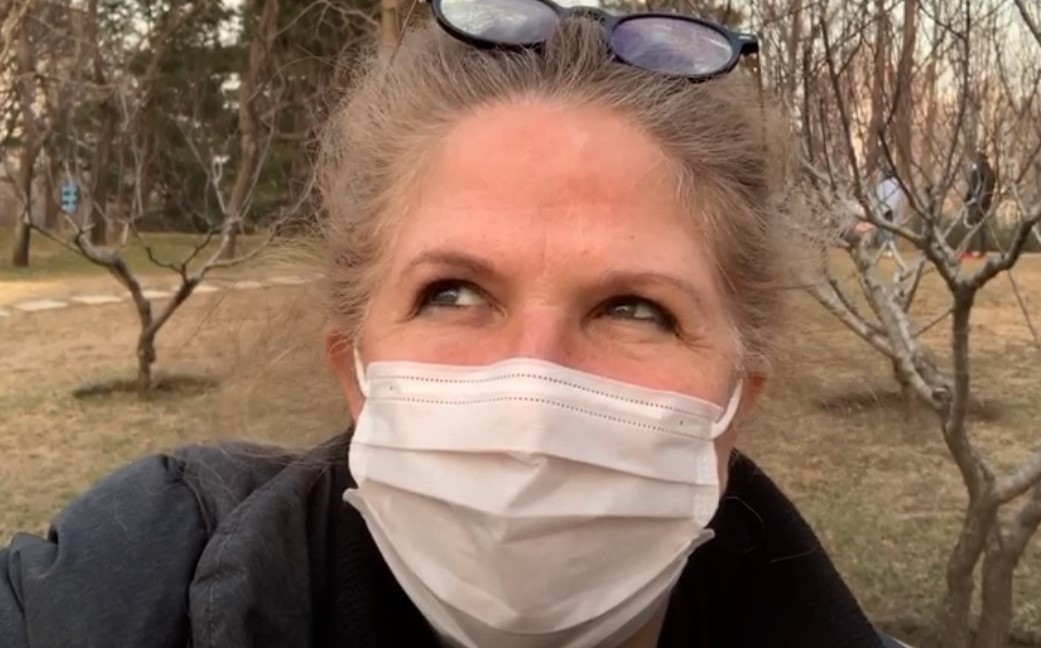face_with_mask: (322, 5, 756, 646)
